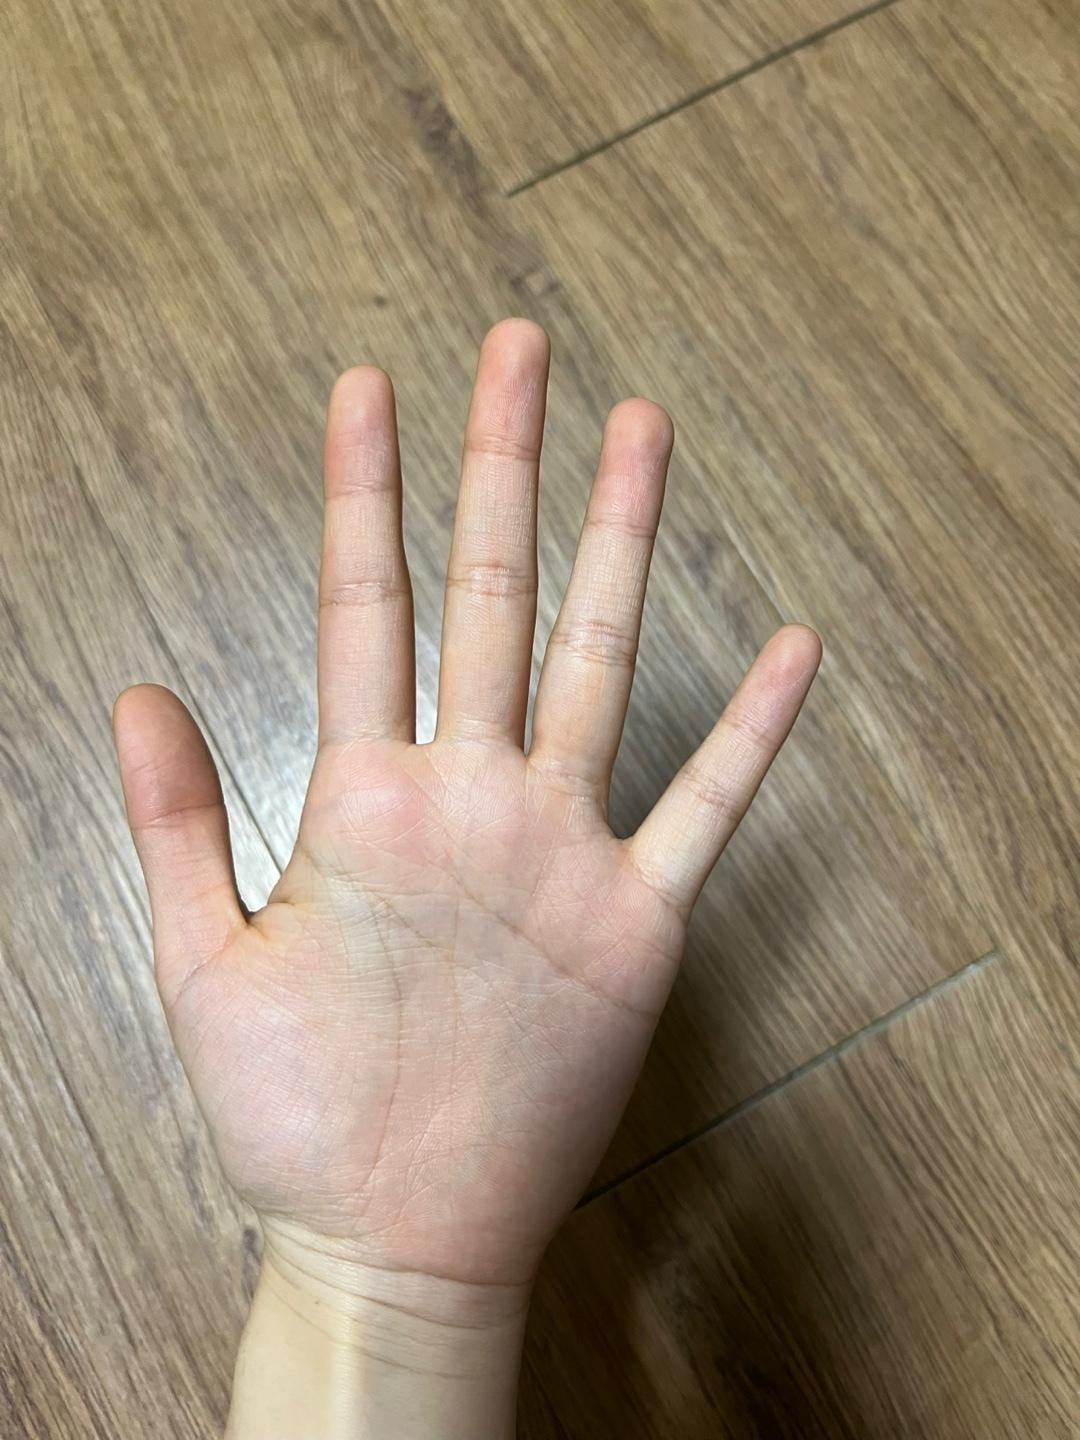open: (106, 310, 832, 1340)
